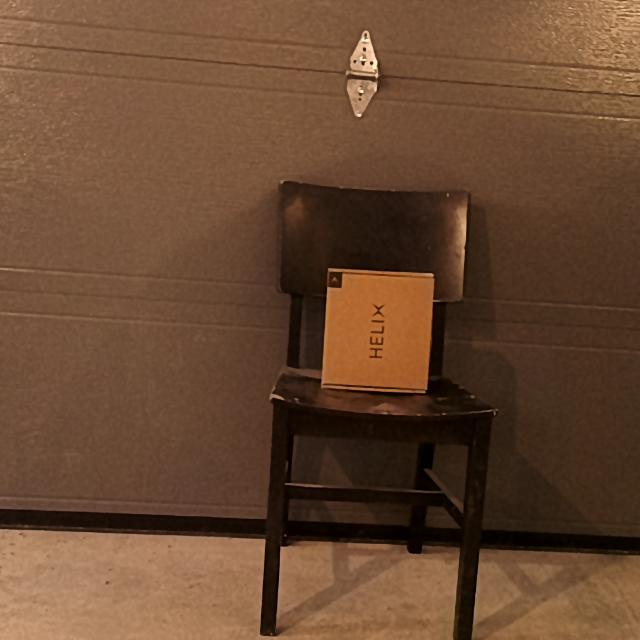box: (328, 269, 428, 387)
